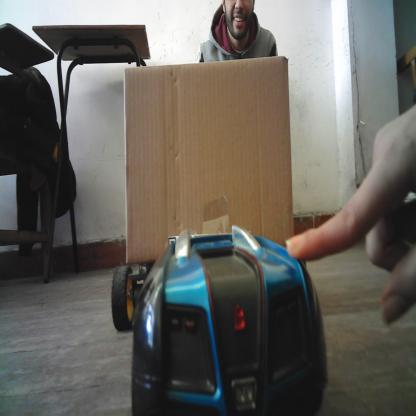LeadTruck: (113, 57, 302, 334)
